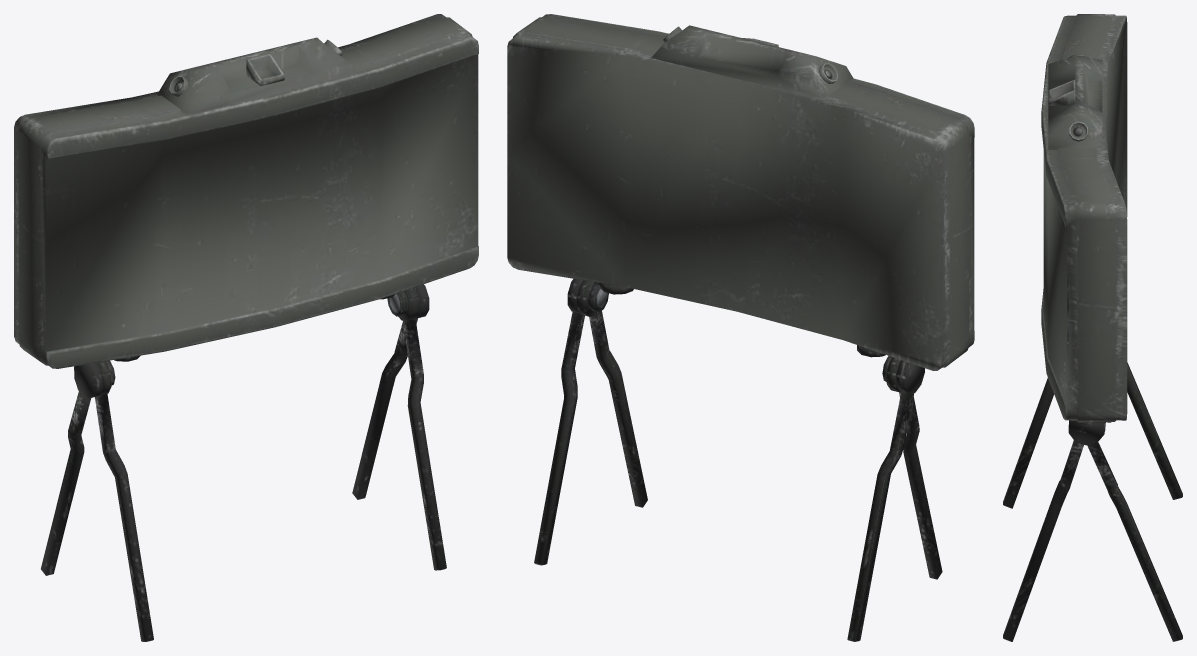
The model's file is Claymore.glb.
3 views of the same model, side by side, from view 1: azimuth 30°, elevation 25°; view 2: azimuth 150°, elevation 25°; view 3: azimuth 270°, elevation 25° (orthographic). The views are drawn at different scales.
Visible parts, largest first — view 1: Claymore; view 2: Claymore; view 3: Claymore.
Boxes of the visible parts, x1=… form: Claymore: x1=14, y1=14, x2=478, y2=641; Claymore: x1=507, y1=14, x2=974, y2=641; Claymore: x1=1003, y1=14, x2=1182, y2=641.
Size of the model in its own units: 0.209 by 0.2405 by 0.08.
Materials: 1 (1 with a texture image).
